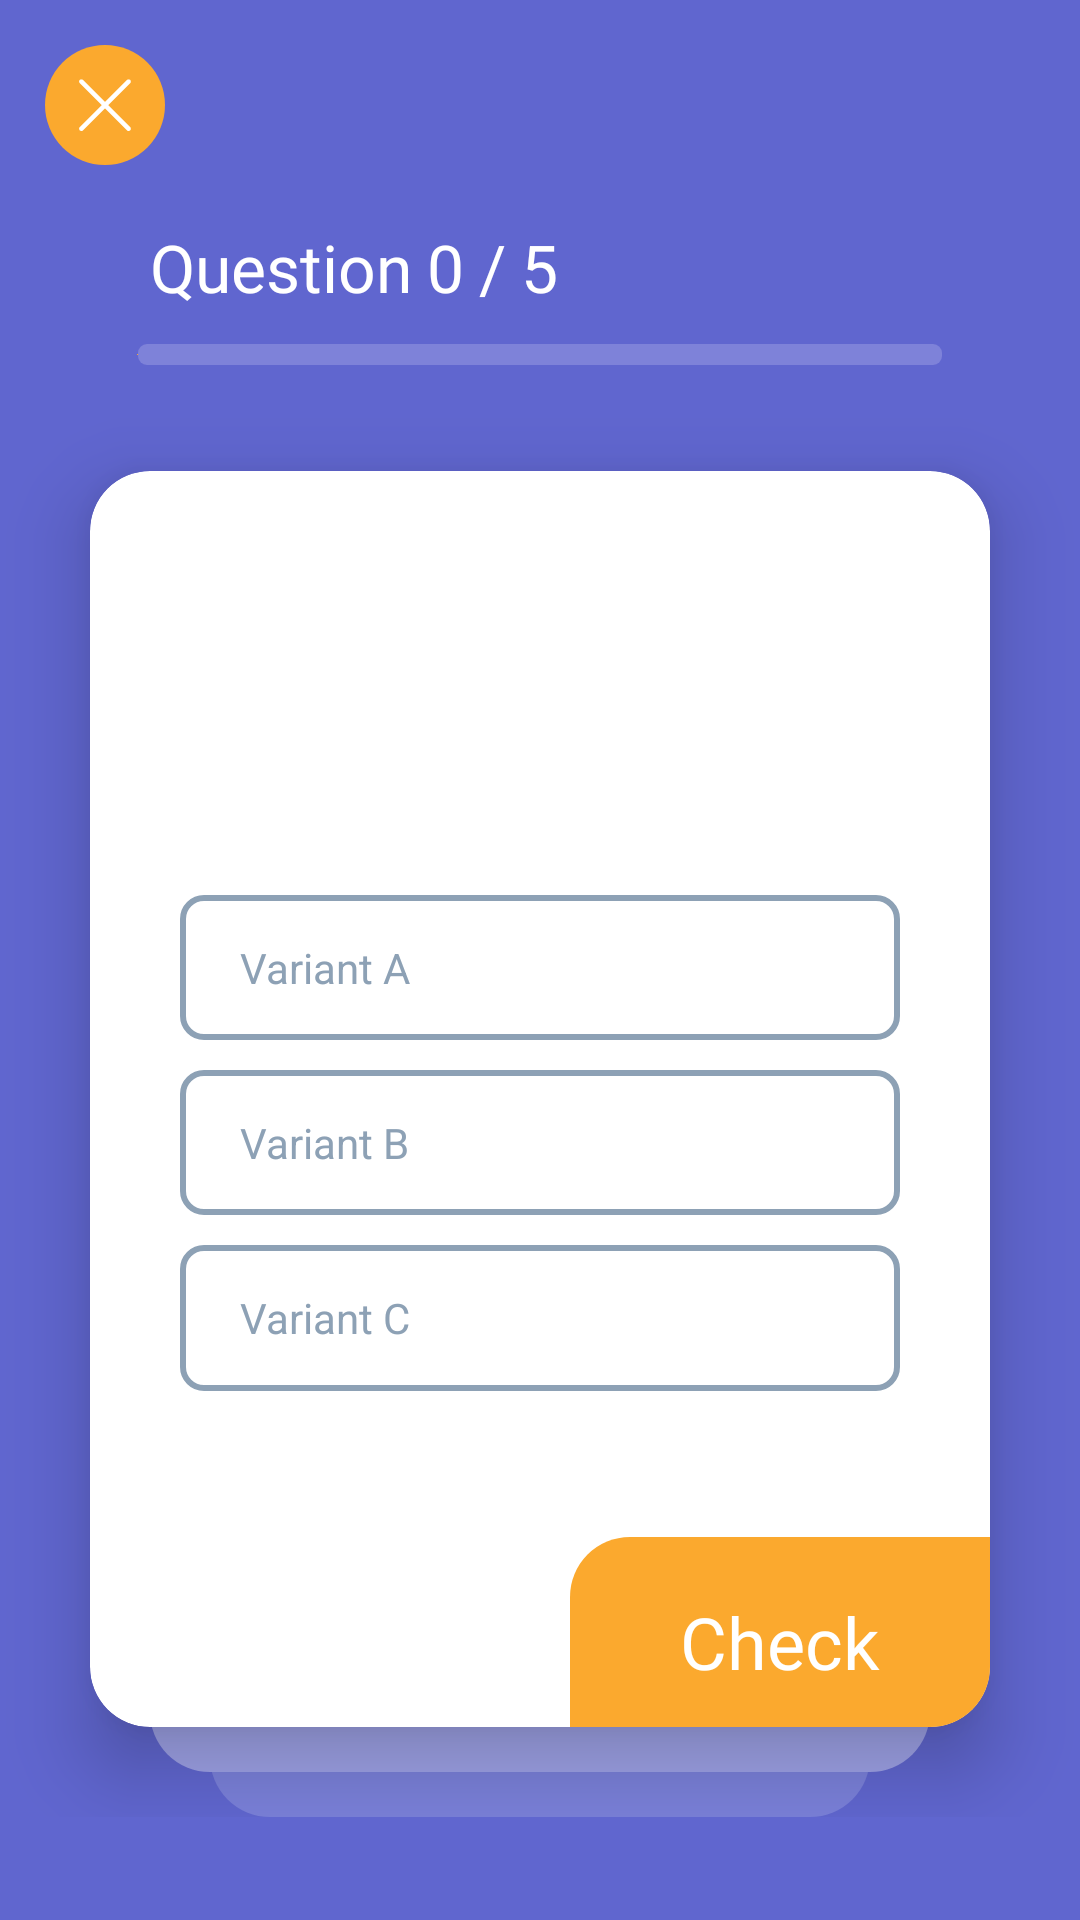

Where icons sit on this 1080x1920 app screen, as (x1, y1, x2, y2):
exit: (45, 45, 165, 165)
